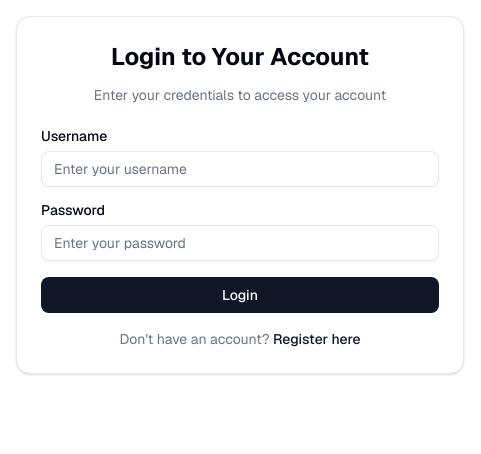
LoginPage › handles login failure
Type "testuser" into the field labelled "Username".
click(240, 169); type("testuser")  # box [41, 151, 439, 187]
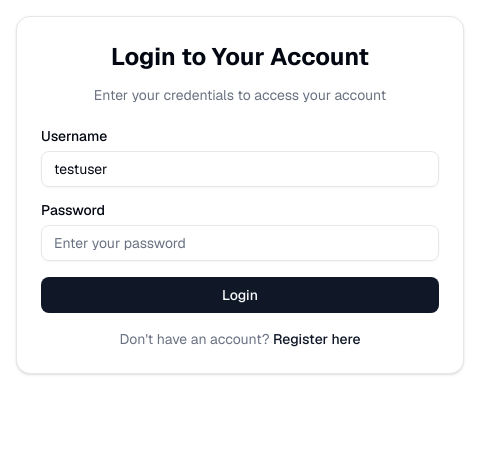
Type "wrongpassword" into the password field labelled "Password".
click(240, 243); type("wrongpassword")  # box [41, 225, 439, 261]
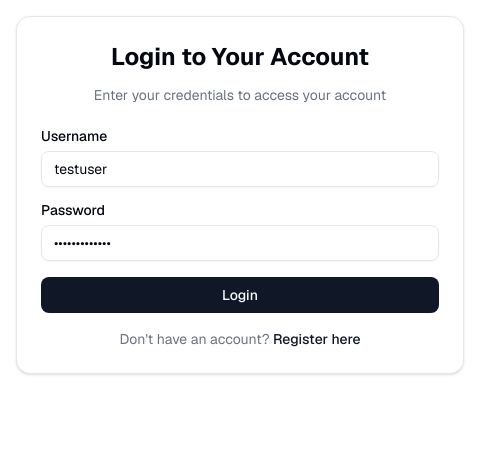
Click the button "Login".
click(240, 295)  # box [41, 277, 439, 313]
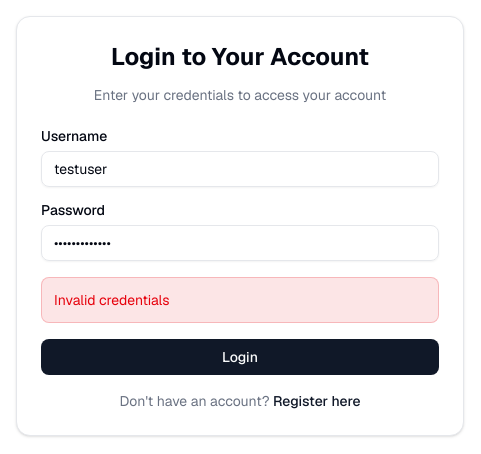
Expected: the text "Invalid credentials" is shown, [54, 291, 170, 309]
